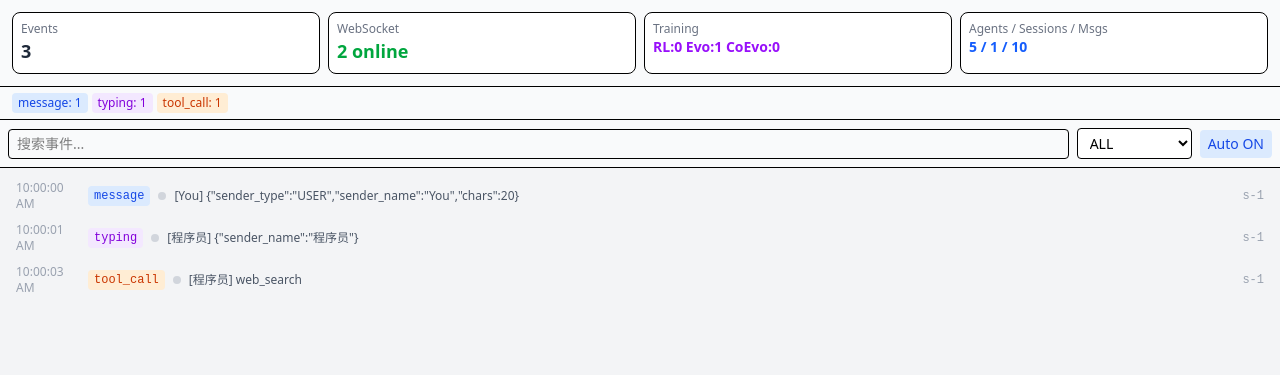
it: MonitorPage › shows event detail on click
Expected: the text "[You] {\"sender_type\":\"USER\",\"sender_name\":\"You\",\"chars\":20}" is shown, [174, 187, 519, 204]
Click the first event row (contains "message" type tag)
Click the text "message" at [119, 196], box [88, 186, 150, 206]
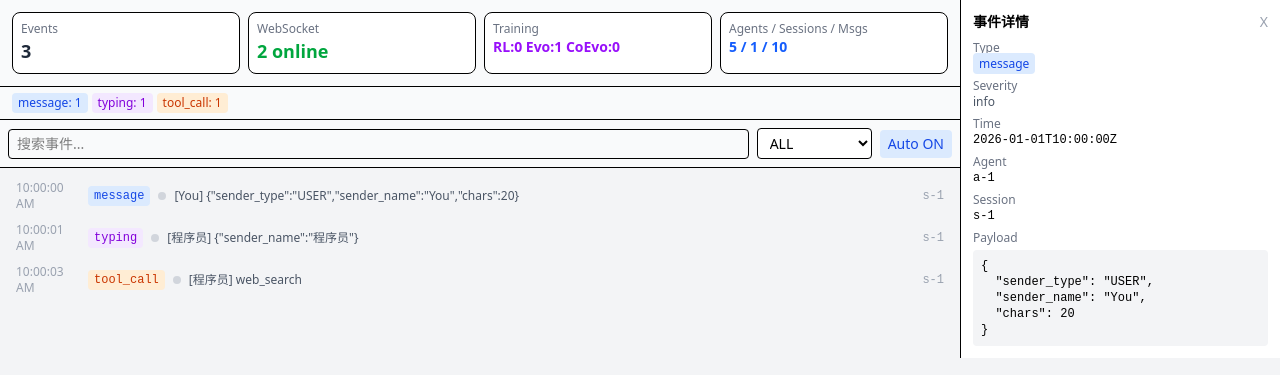
Now the heading "事件详情" is shown, box [973, 12, 1029, 32]
